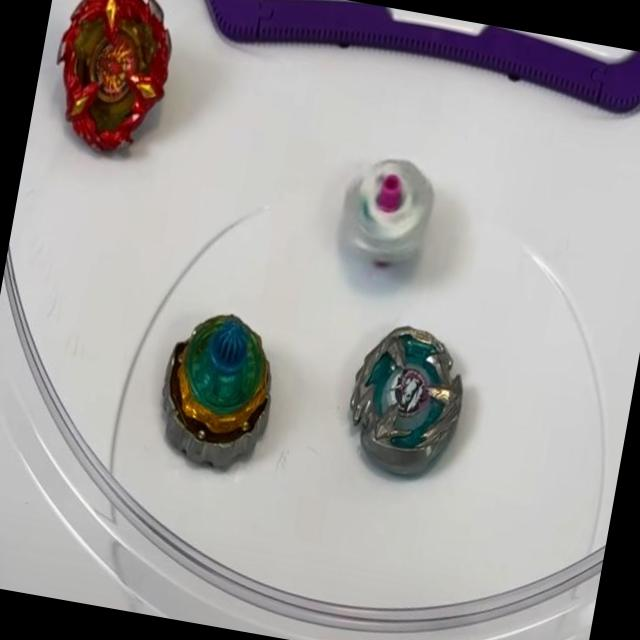Beyblade: (150, 305, 286, 475), (39, 0, 183, 160), (336, 318, 472, 484), (336, 151, 439, 275)
